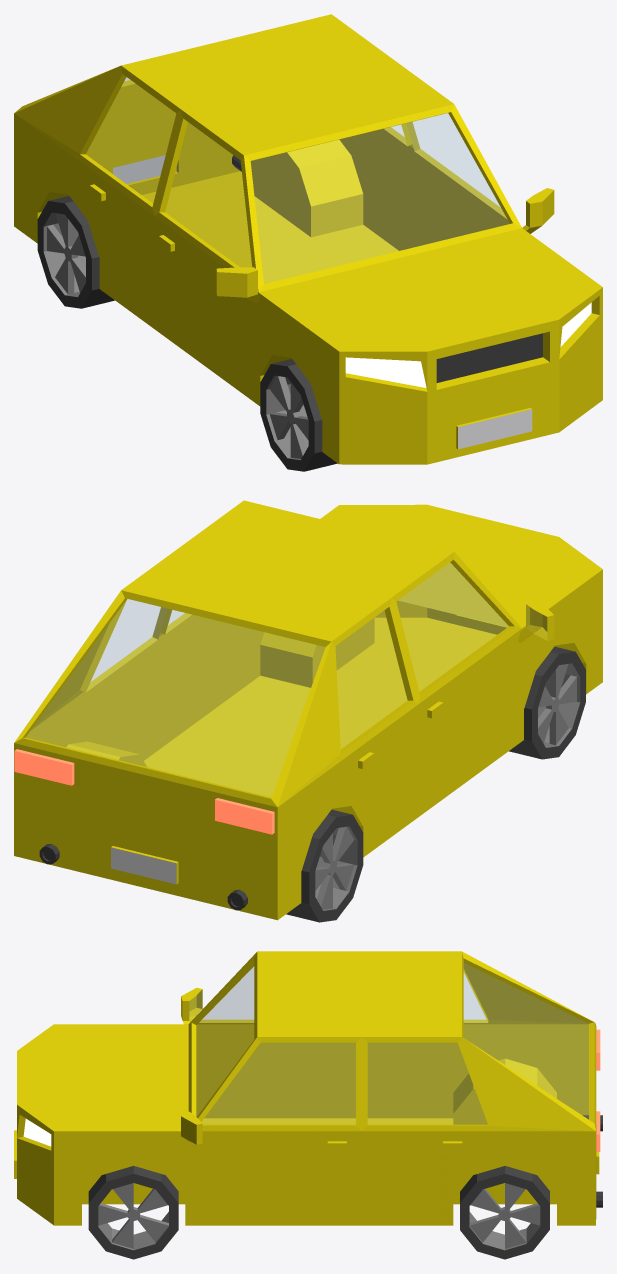
The model's file is hatchback.glb.
The picture shows the model from 3 angles, top to bottom: view 1: azimuth 30°, elevation 25°; view 2: azimuth 150°, elevation 25°; view 3: azimuth 270°, elevation 25°; orthographic projection. The views are drawn at different scales.
Visible parts, largest first — view 1: Hatchback, Hatchback wheel front right, Hatchback wheel rear right; view 2: Hatchback, Hatchback wheel rear right, Hatchback wheel front right; view 3: Hatchback, Hatchback wheel front left, Hatchback wheel rear left.
Part boxes in pixels (x1=…): Hatchback: x1=14, y1=14, x2=602, y2=464; Hatchback wheel front right: x1=260, y1=359, x2=337, y2=471; Hatchback wheel rear right: x1=37, y1=196, x2=114, y2=308; Hatchback: x1=14, y1=500, x2=602, y2=920; Hatchback wheel rear right: x1=286, y1=809, x2=363, y2=922; Hatchback wheel front right: x1=509, y1=646, x2=585, y2=759; Hatchback: x1=14, y1=951, x2=602, y2=1225; Hatchback wheel front left: x1=88, y1=1166, x2=178, y2=1259; Hatchback wheel rear left: x1=460, y1=1166, x2=549, y2=1259.
Size of the model in its own units: 2.81 by 2.01 by 5.11.
